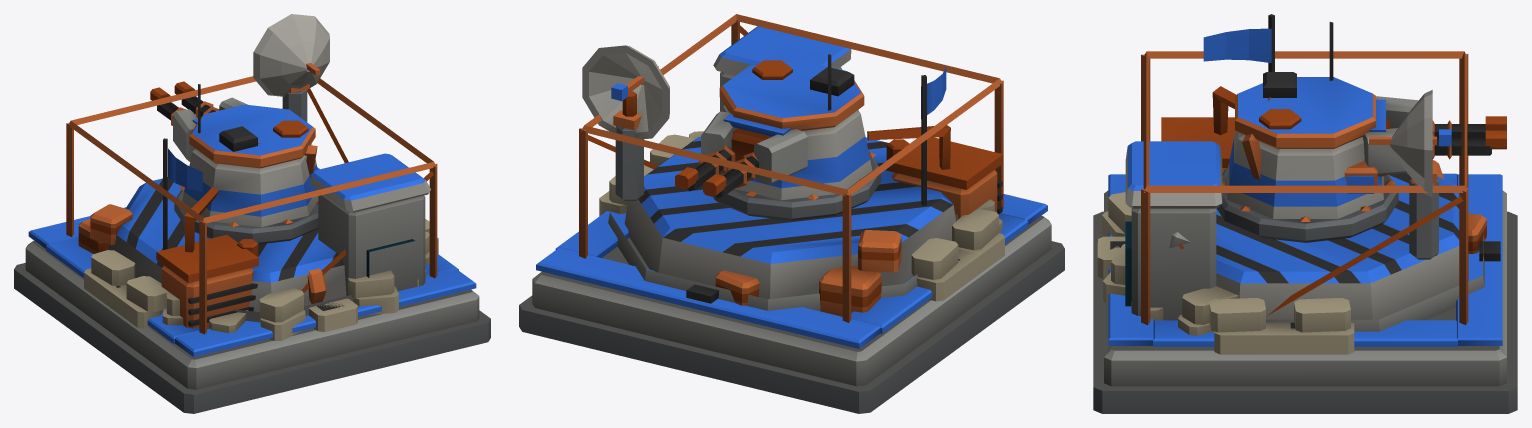
The picture shows the model from 3 angles, left to right: view 1: azimuth 30°, elevation 25°; view 2: azimuth 150°, elevation 25°; view 3: azimuth 270°, elevation 25°; orthographic projection. The views are drawn at different scales.
Visible parts, largest first — view 1: body, turret, scaffoldFrame, spinRadar, barrel, swayFlag; view 2: body, turret, scaffoldFrame, spinRadar, barrel, swayFlag; view 3: body, turret, scaffoldFrame, spinRadar, barrel, swayFlag.
Boxes of the visible parts, x1,y1,x2,y2 form: body: (14, 83, 490, 413); turret: (173, 84, 318, 227); scaffoldFrame: (66, 76, 437, 334); spinRadar: (253, 14, 329, 96); barrel: (150, 81, 219, 125); swayFlag: (168, 148, 202, 191); body: (519, 26, 1064, 413); turret: (701, 54, 872, 200); scaffoldFrame: (579, 14, 1003, 322); spinRadar: (582, 45, 669, 139); barrel: (675, 113, 791, 198); swayFlag: (921, 66, 946, 118); body: (1093, 14, 1517, 413); turret: (1227, 22, 1418, 218); scaffoldFrame: (1141, 51, 1468, 325); spinRadar: (1369, 90, 1451, 197); barrel: (1344, 99, 1506, 193); swayFlag: (1203, 28, 1271, 62).
Bounding box in the file's own units: 2 × 1.48 × 2.
